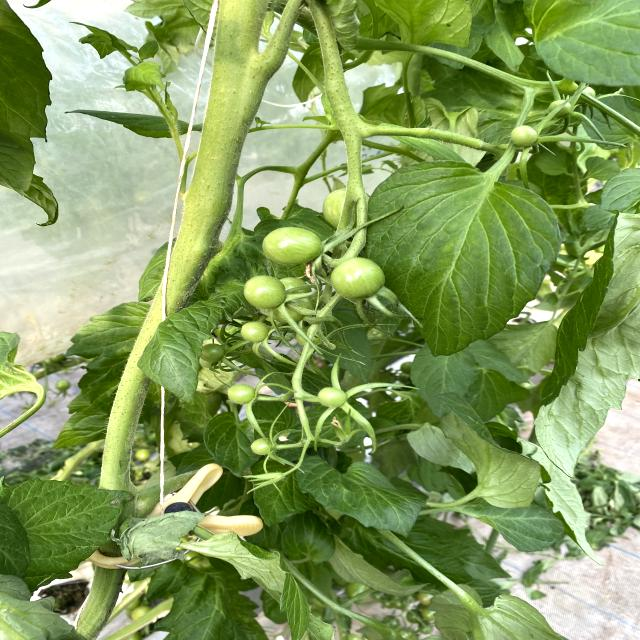ripe0: (263, 226, 322, 266), (332, 257, 386, 299), (244, 275, 286, 309), (317, 387, 346, 408), (242, 320, 268, 342), (511, 126, 538, 147), (228, 384, 256, 404)
